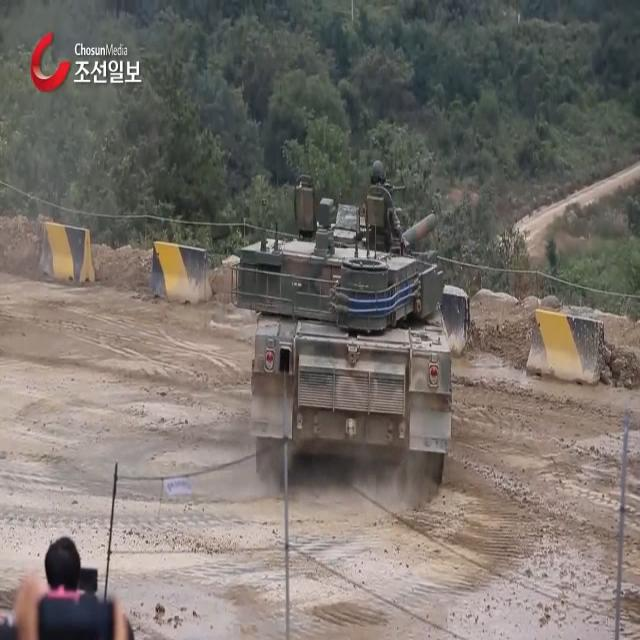korea tank: (231, 159, 451, 488)
